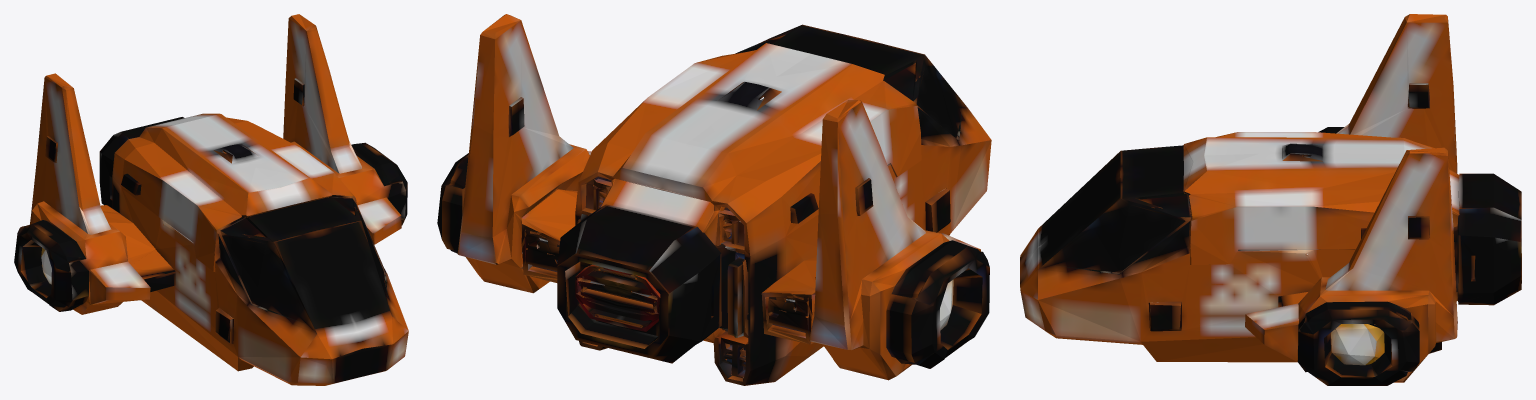
3 renders of one model, left to right at view 1: azimuth 30°, elevation 25°; view 2: azimuth 150°, elevation 25°; view 3: azimuth 270°, elevation 25°, orthographic. The views are drawn at different scales.
Visible parts, largest first — view 1: world; view 2: world; view 3: world.
Part boxes in pixels (x1=…): world: x1=14, y1=14, x2=408, y2=385; world: x1=437, y1=14, x2=991, y2=385; world: x1=1020, y1=14, x2=1521, y2=385.
Bounding box in the file's own units: 0.9137 × 0.5434 × 1.
Materials: 1 (1 with a texture image).
